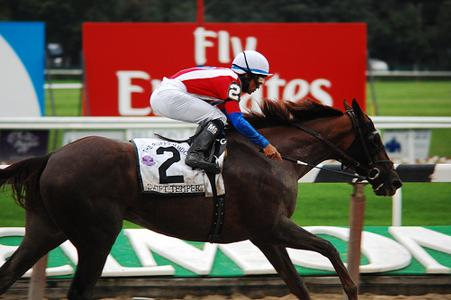person: (150, 50, 289, 175)
